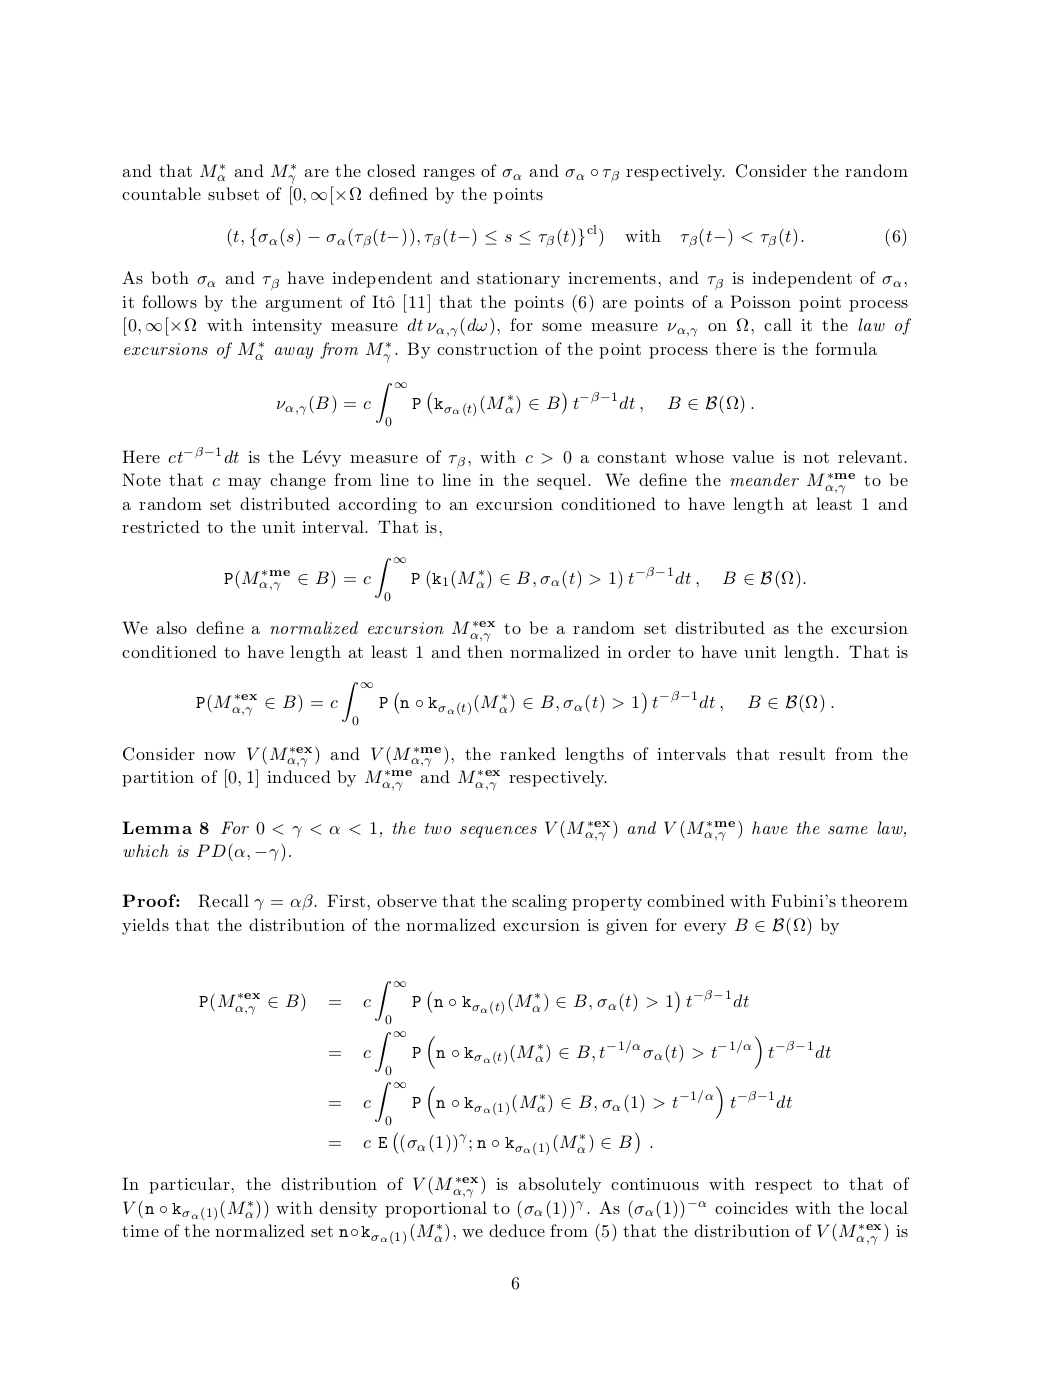formula: (196, 681, 833, 726), (224, 556, 805, 602), (199, 980, 748, 1025), (329, 1030, 830, 1077), (278, 381, 753, 427), (329, 1081, 791, 1126), (227, 224, 906, 249), (329, 1131, 652, 1156)
